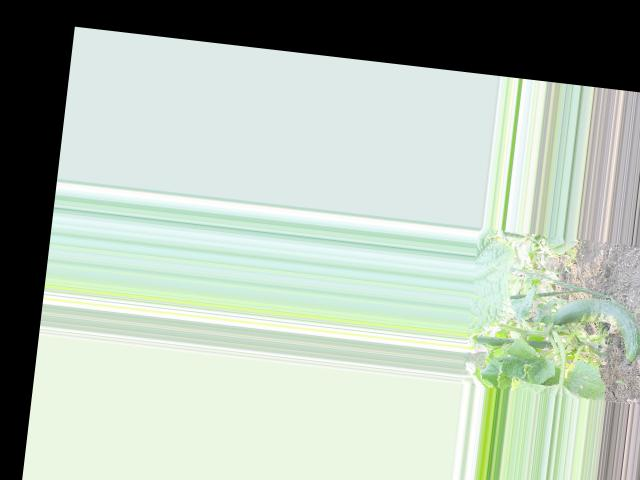cucumber: (547, 292, 640, 362)
